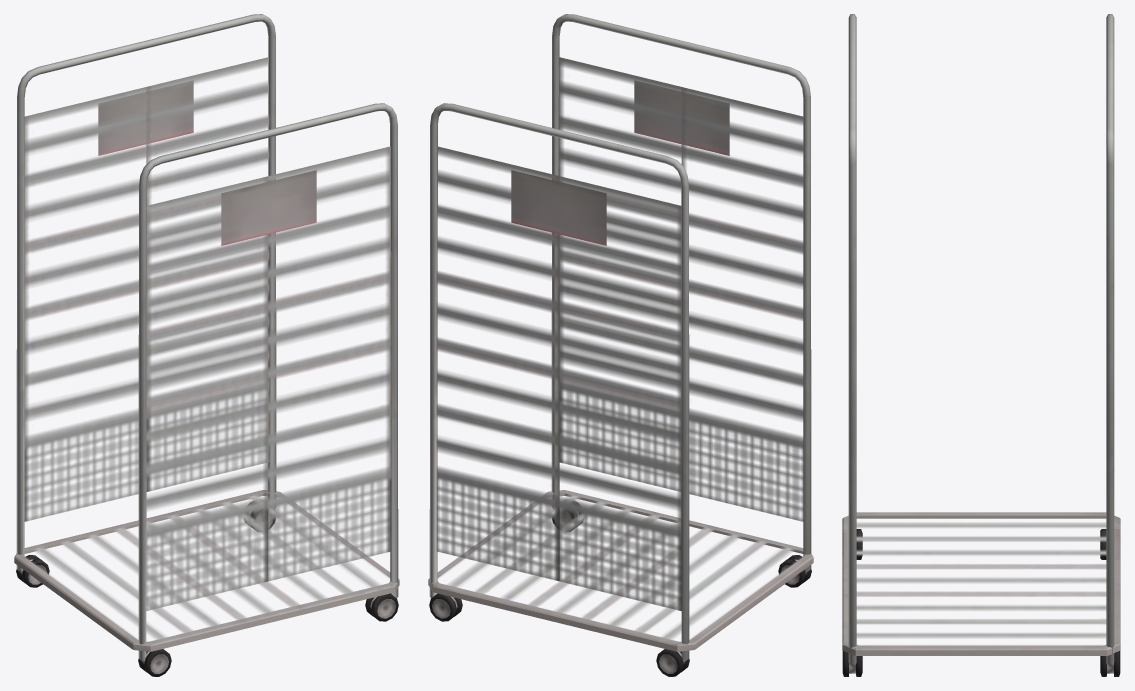
File: ss-roll-cage.lod0.glb
3 renders of one model, left to right at view 1: azimuth 30°, elevation 25°; view 2: azimuth 150°, elevation 25°; view 3: azimuth 270°, elevation 25°, orthographic. The views are drawn at different scales.
Visible parts, largest first — view 1: general_store_furniture_cart_general_store_furniture_0; view 2: general_store_furniture_cart_general_store_furniture_0; view 3: general_store_furniture_cart_general_store_furniture_0.
Boxes of the visible parts, x1=… form: general_store_furniture_cart_general_store_furniture_0: x1=14, y1=14, x2=399, y2=676; general_store_furniture_cart_general_store_furniture_0: x1=428, y1=14, x2=813, y2=676; general_store_furniture_cart_general_store_furniture_0: x1=842, y1=14, x2=1120, y2=676.
Size of the model in its own units: 1.2 by 2.23 by 1.03.
1 material, 1 textured.
